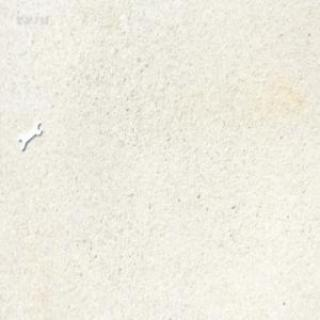Wrenchtrack_idkeyframe: (23, 115, 47, 148)
